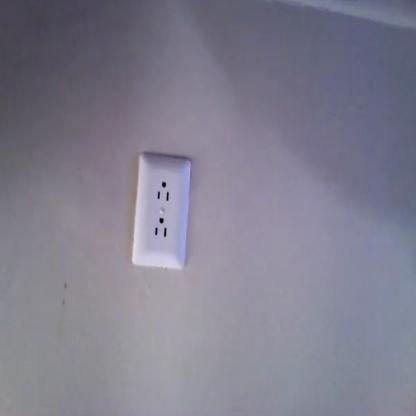OUTLET: (131, 154, 192, 267)
